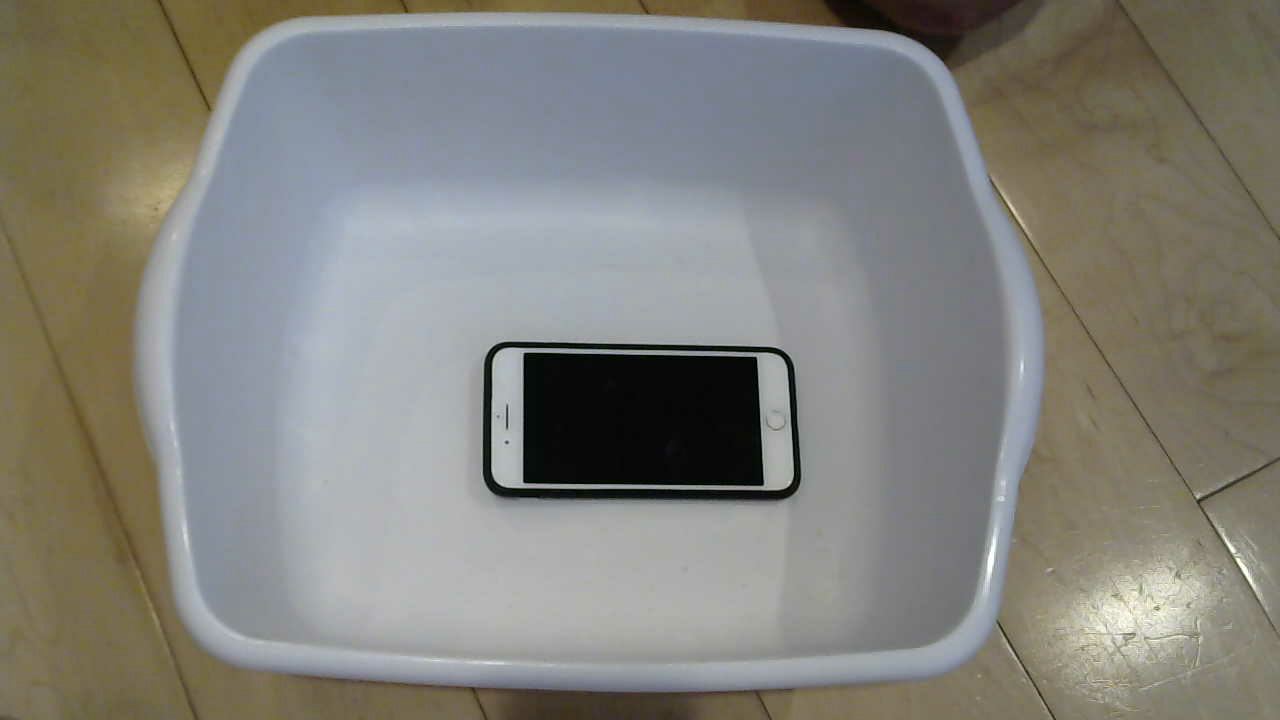phone: (454, 321, 828, 514)
